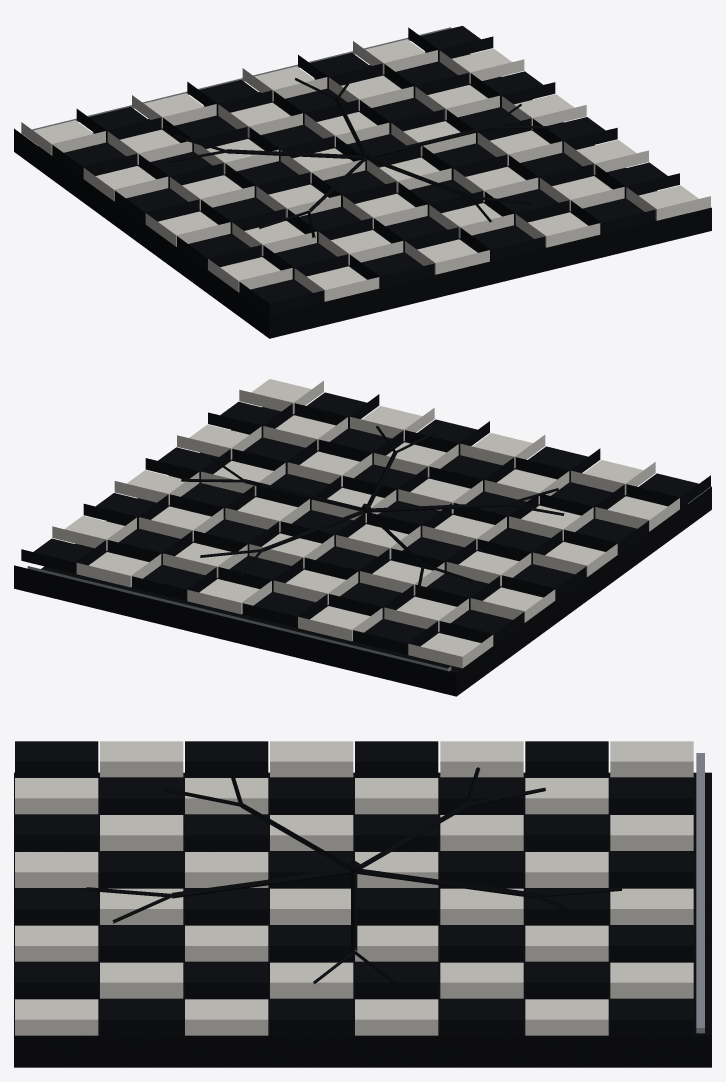
File: v4_deck.glb
The picture shows the model from 3 angles, top to bottom: view 1: azimuth 30°, elevation 25°; view 2: azimuth 150°, elevation 25°; view 3: azimuth 270°, elevation 25°; orthographic projection. The views are drawn at different scales.
Visible parts, largest first — view 1: Pavers_A, Pavers_B, Deck_Slab, Root_Relief, Deck_Drain; view 2: Pavers_B, Pavers_A, Deck_Slab, Root_Relief, Deck_Drain; view 3: Pavers_A, Pavers_B, Deck_Slab, Root_Relief, Deck_Drain.
Part boxes in pixels (<box>): Pavers_A: <box>21,39,710,301</box>; Pavers_B: <box>52,26,679,314</box>; Deck_Slab: <box>14,51,711,338</box>; Root_Relief: <box>168,73,551,237</box>; Deck_Drain: <box>32,27,451,130</box>; Pavers_B: <box>21,392,710,654</box>; Pavers_A: <box>52,379,679,668</box>; Deck_Slab: <box>14,407,711,696</box>; Root_Relief: <box>181,425,564,591</box>; Deck_Drain: <box>27,566,451,671</box>; Pavers_A: <box>15,741,693,1035</box>; Pavers_B: <box>15,741,693,1035</box>; Deck_Slab: <box>14,772,711,1067</box>; Root_Relief: <box>86,767,622,984</box>; Deck_Drain: <box>696,753,704,1033</box>.
Size of what is drawn, in the model's own units: 4 by 0.368 by 4.
Materials: 4 (2 with a texture image).
